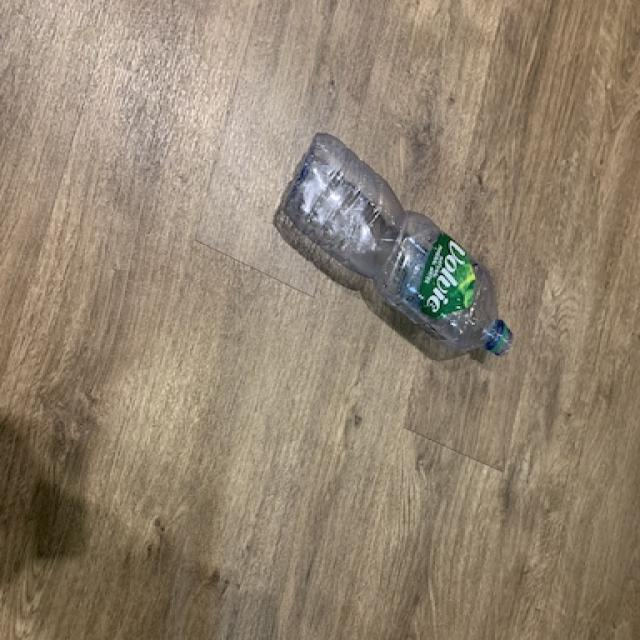bottle: (283, 132, 515, 358)
